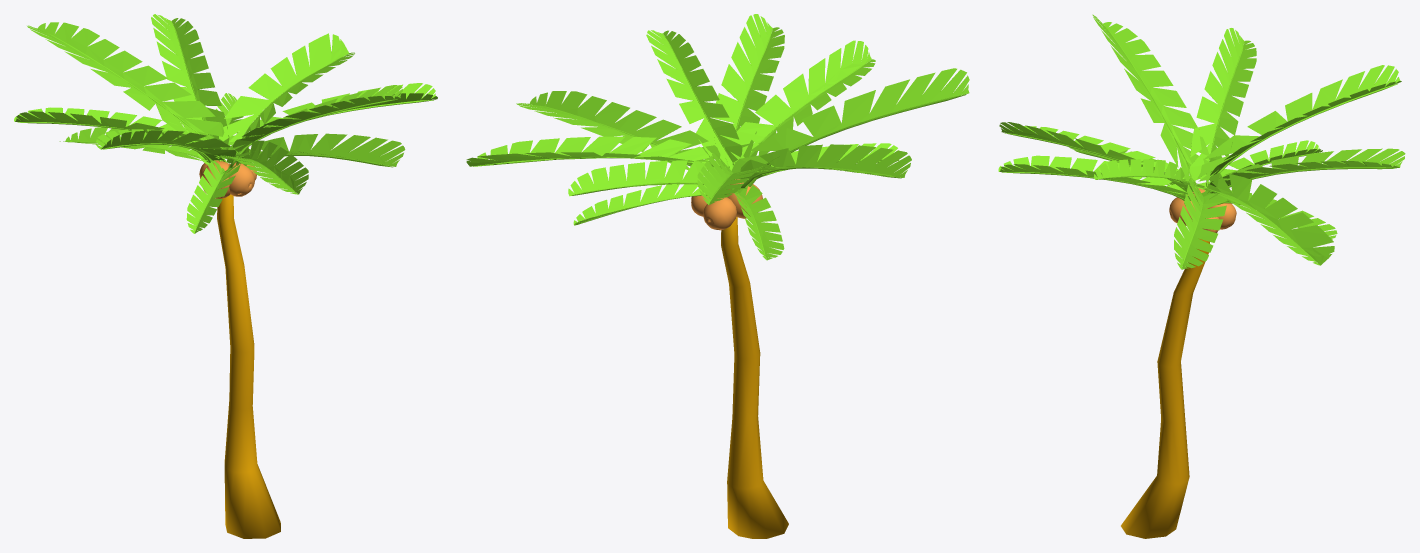
Rendered from palmier.dae.
The picture shows the model from 3 angles, left to right: view 1: azimuth 30°, elevation 25°; view 2: azimuth 150°, elevation 25°; view 3: azimuth 270°, elevation 25°; orthographic projection. The views are drawn at different scales.
Parts seen in each view (by area): view 1: leafs, palm tree, coconuts; view 2: leafs, palm tree, coconuts; view 3: leafs, palm tree, coconuts.
Boxes of the visible parts, <box> form: leafs: <box>14,14,437,233</box>; palm tree: <box>217,163,280,538</box>; coconuts: <box>199,160,256,198</box>; leafs: <box>466,14,969,260</box>; palm tree: <box>721,217,788,538</box>; coconuts: <box>691,179,762,230</box>; leafs: <box>998,14,1405,269</box>; palm tree: <box>1121,239,1209,538</box>; coconuts: <box>1169,188,1236,232</box>.
Bounding box in the file's own units: 15.86 × 14.72 × 17.37.
